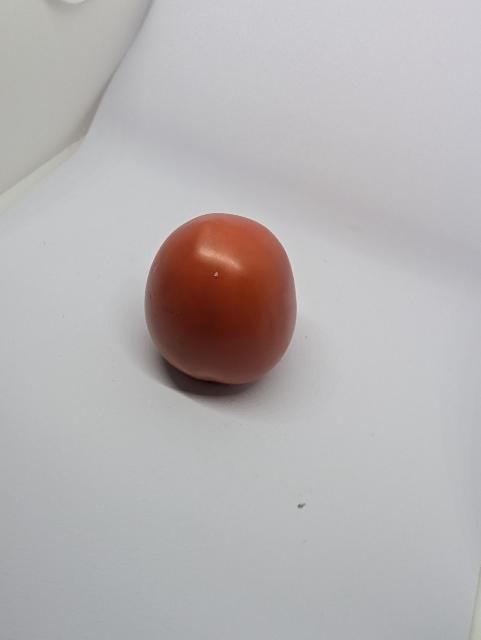red: (139, 203, 304, 401)
